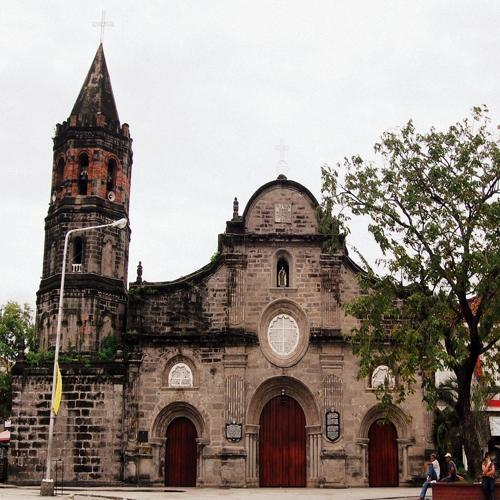Barasoain Church: (10, 11, 440, 491)
